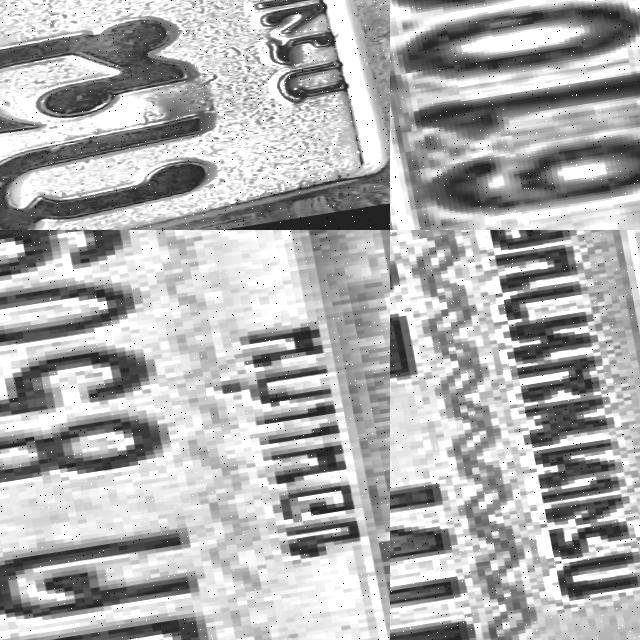license-plate: (0, 230, 390, 640), (390, 230, 640, 640), (0, 0, 390, 230), (390, 0, 640, 230)
